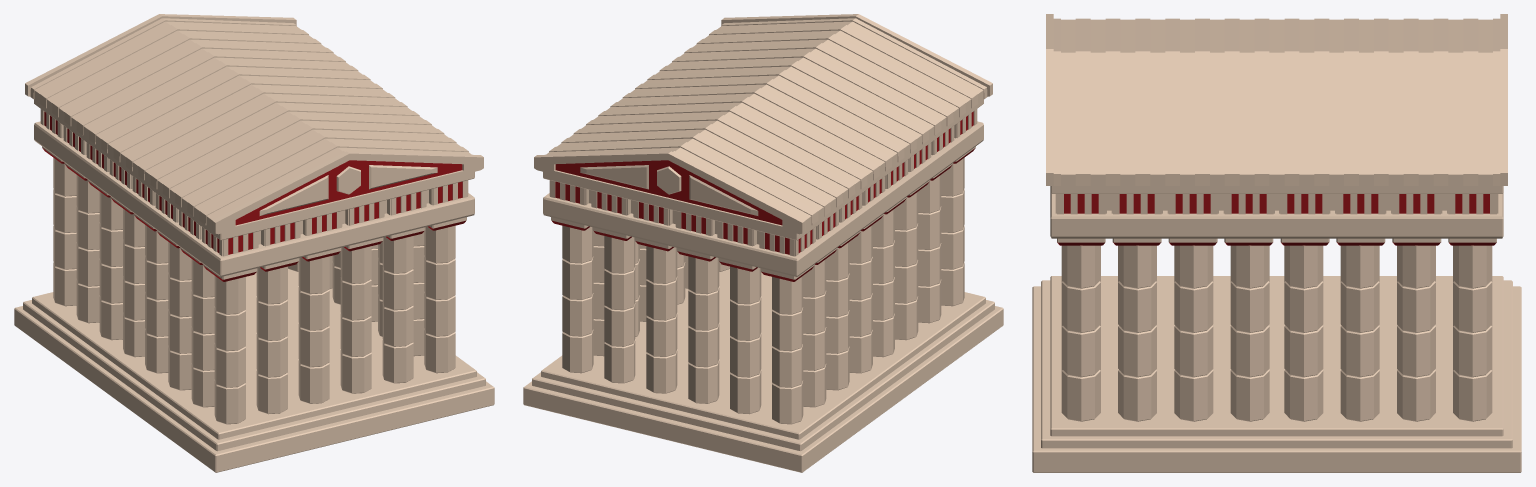
The model's file is Parthenon.fbx.
3 renders of one model, left to right at view 1: azimuth 30°, elevation 25°; view 2: azimuth 150°, elevation 25°; view 3: azimuth 270°, elevation 25°, orthographic. The views are drawn at different scales.
Visible parts, largest first — view 1: pillars b, roof, roof bumps, base topper 2, base, cieling, fancy, base topper, cieling 2, pillar tops; view 2: pillars b, roof, roof bumps, base topper 2, base, cieling, fancy, base topper, cieling 2, pillar tops; view 3: pillars b, roof, roof bumps, base topper 2, base, cieling, base topper, fancy, cieling 2, pillar tops.
Boxes of the visible parts, x1=… form: pillars b: x1=53, y1=158, x2=455, y2=424; roof: x1=25, y1=14, x2=483, y2=234; roof bumps: x1=30, y1=18, x2=468, y2=229; base topper 2: x1=32, y1=269, x2=476, y2=439; base: x1=14, y1=306, x2=494, y2=472; cieling: x1=34, y1=121, x2=474, y2=276; fancy: x1=40, y1=109, x2=468, y2=256; base topper: x1=23, y1=300, x2=485, y2=451; cieling 2: x1=34, y1=99, x2=474, y2=240; pillar tops: x1=42, y1=146, x2=466, y2=281; pillars b: x1=562, y1=158, x2=964, y2=424; roof: x1=534, y1=14, x2=992, y2=234; roof bumps: x1=549, y1=18, x2=987, y2=229; base topper 2: x1=541, y1=269, x2=985, y2=439; base: x1=523, y1=306, x2=1003, y2=472; cieling: x1=543, y1=121, x2=983, y2=276; fancy: x1=549, y1=109, x2=977, y2=256; base topper: x1=532, y1=300, x2=994, y2=451; cieling 2: x1=543, y1=99, x2=983, y2=240; pillar tops: x1=551, y1=146, x2=975, y2=281; pillars b: x1=1061, y1=245, x2=1492, y2=421; roof: x1=1046, y1=14, x2=1507, y2=185; roof bumps: x1=1053, y1=18, x2=1500, y2=185; base topper 2: x1=1050, y1=276, x2=1503, y2=436; base: x1=1032, y1=286, x2=1521, y2=472; cieling: x1=1050, y1=193, x2=1503, y2=238; base topper: x1=1041, y1=280, x2=1512, y2=448; fancy: x1=1055, y1=194, x2=1498, y2=214; cieling 2: x1=1050, y1=185, x2=1503, y2=193; pillar tops: x1=1057, y1=238, x2=1496, y2=245.
Size of the model in its own units: 160 by 154 by 200.
